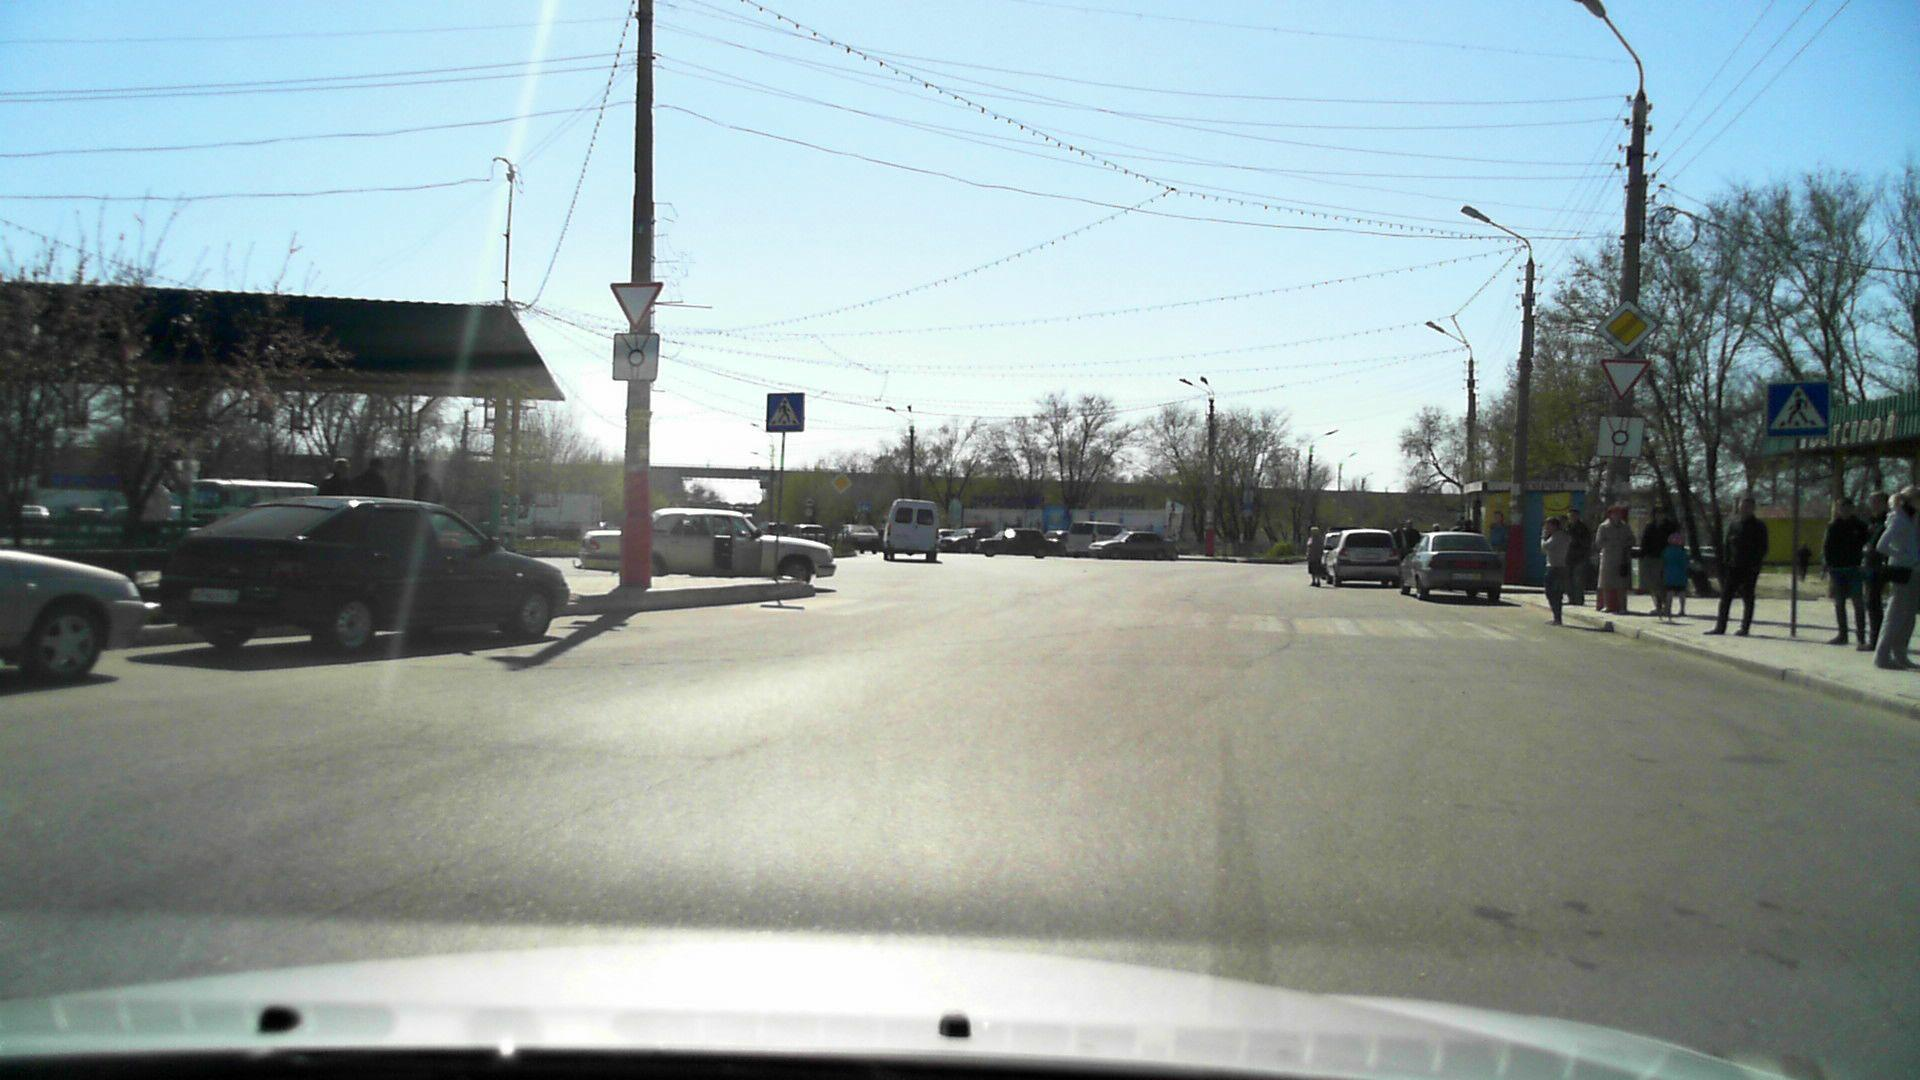2_1: (824, 469, 855, 496)
2_2: (1598, 298, 1655, 352)
2_4: (604, 278, 665, 334), (1600, 356, 1648, 401)
5_19_1: (1763, 378, 1833, 434)
5_19_2: (766, 388, 806, 434)
8_13: (607, 330, 662, 389), (1592, 414, 1643, 459)
